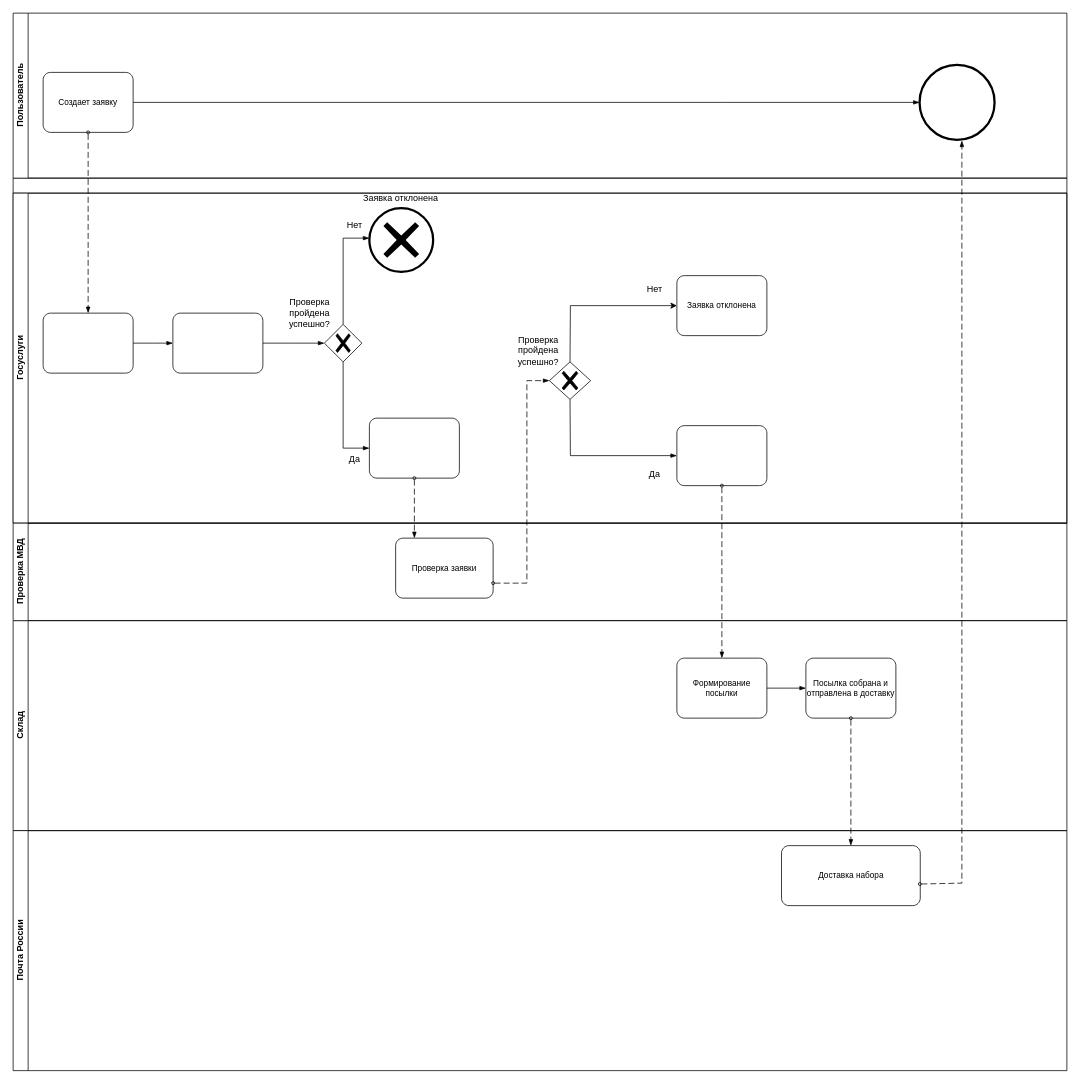
This 1080x1084 diagram has some shape labels left out. The centre of each missing label's shape, as x and y in pixels:
Запрос на проверку заявки: [414,447]
Зарегистрирована заявка: [87,342]
Заявка подтверждена: [721,455]
Получил набор: [957,102]
Проверка на отсутствие выданных наборов и отсутствие назавершенных заявок: [217,342]
